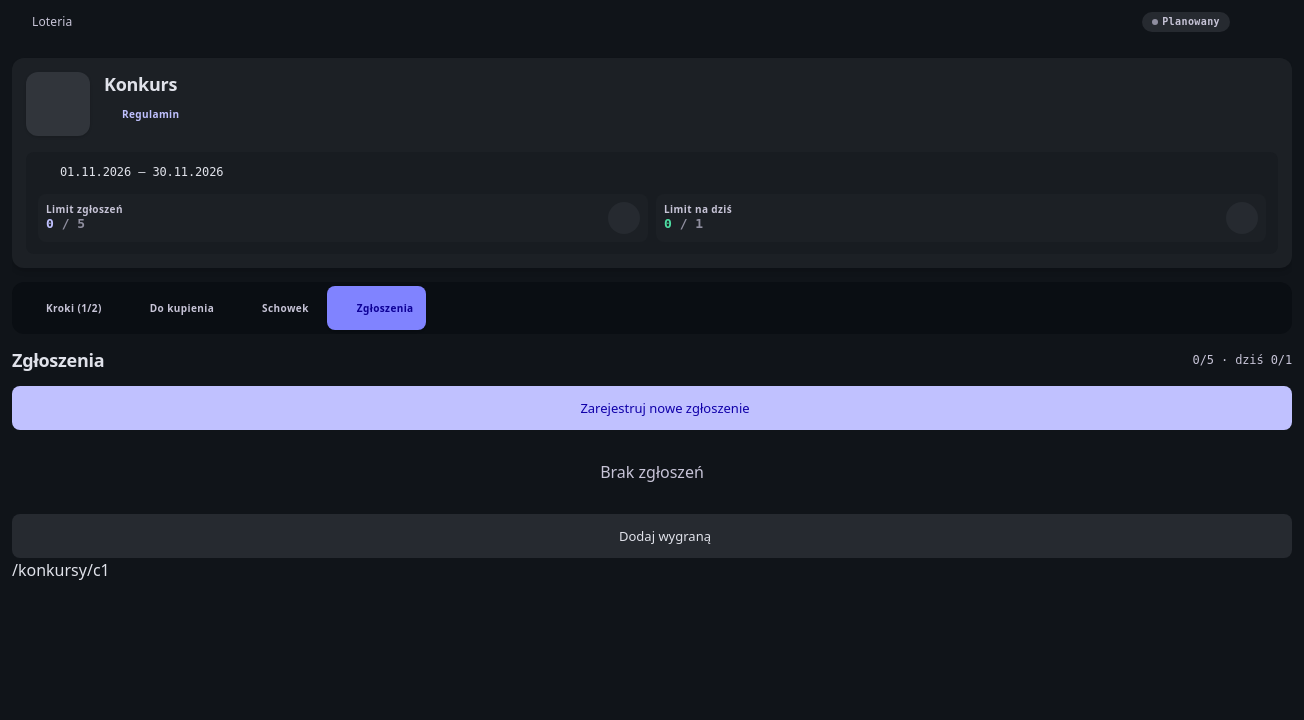
Scenario: ContestDetailsPage › the form is closed by default and opened with the add button
The width and height of the screenshot is (1304, 720).
Click the button "Zarejestruj nowe zgłoszenie".
click(652, 408)  # box [12, 386, 1292, 430]
(page scrolled)
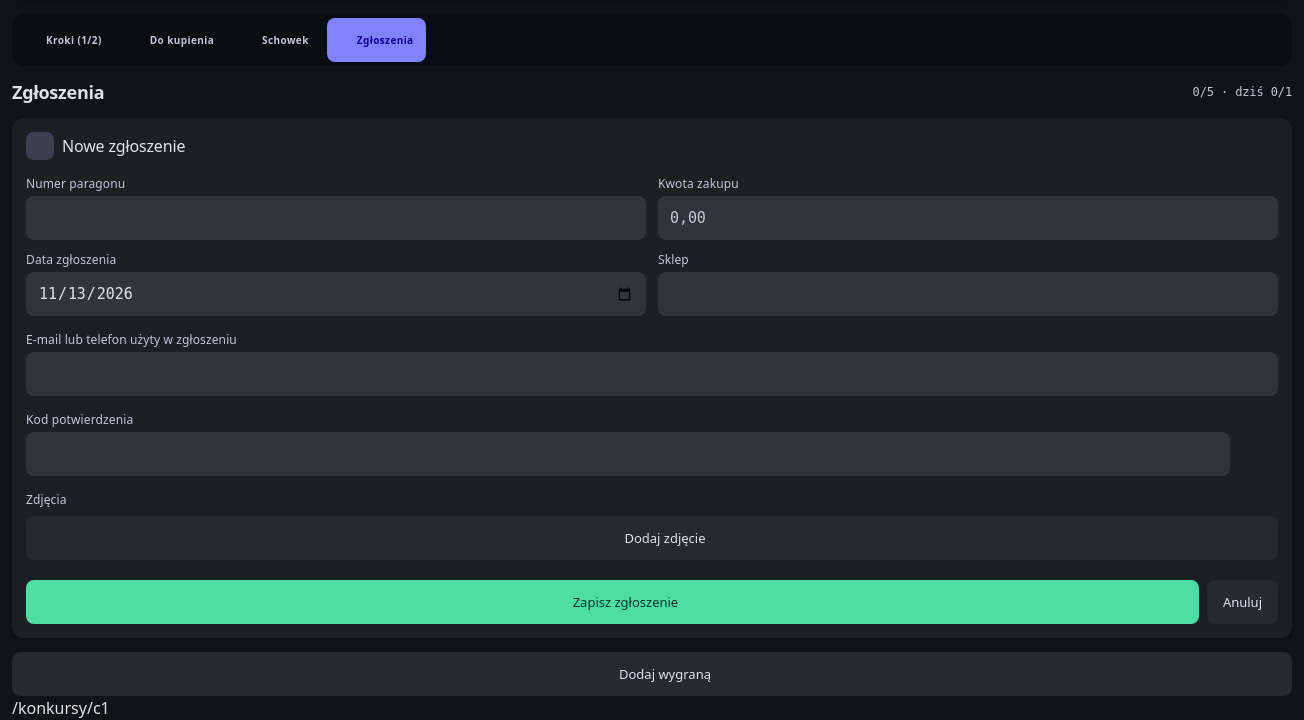
Expected: the button "Zapisz zgłoszenie" is shown, [26, 580, 1199, 624]
